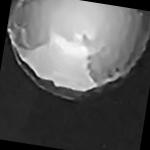colony: (0, 0, 150, 113)
